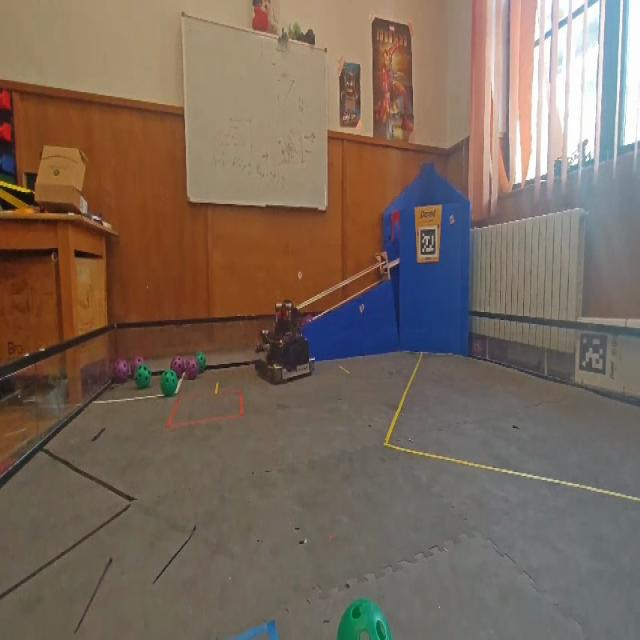artifact_green: (338, 600, 391, 639), (161, 370, 178, 397), (135, 364, 151, 389), (196, 351, 206, 373), (293, 23, 302, 39)
artifact_purple: (112, 359, 129, 384), (171, 356, 185, 378), (186, 358, 199, 379), (132, 356, 144, 375), (128, 363, 133, 378)
